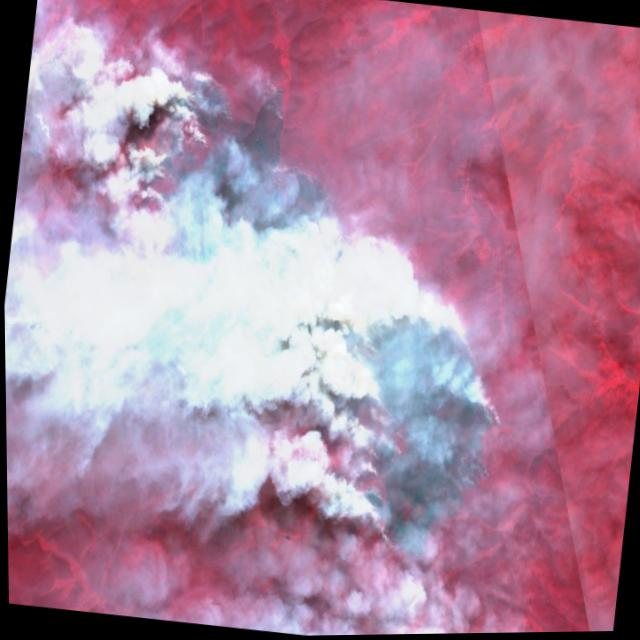fire: (322, 292, 521, 557), (141, 58, 248, 248), (120, 306, 174, 371)
